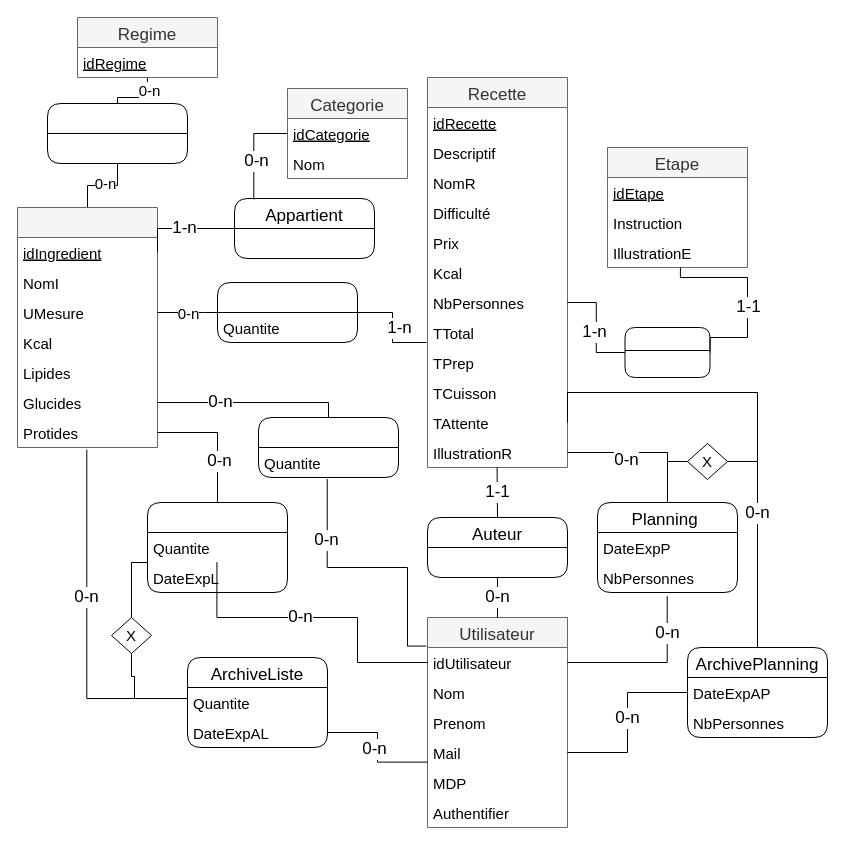
The diagram is 845 pixels wide and 845 high, and some of its shapes have lost their labels. The shapes that lost their labels are listed below. From the top down, each one's box as (x1, y1, x2, y2) in pixels, then its label:
(46, 102, 188, 164): Interdiction
(16, 206, 158, 448): Ingredients
(216, 282, 358, 342): Quantité
(624, 326, 710, 378): Suit
(258, 416, 398, 478): Inventaire
(146, 502, 288, 592): Liste
